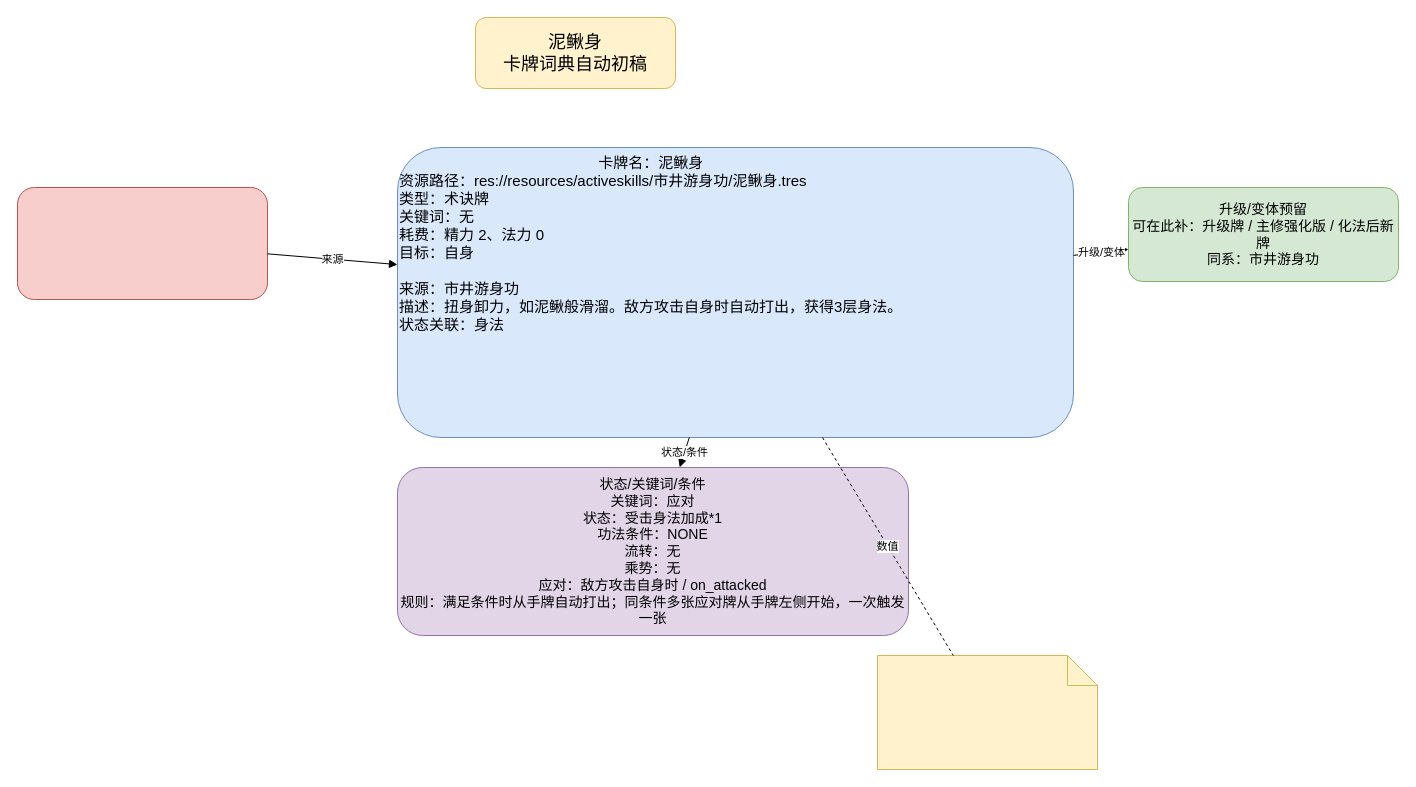
Some shapes in this 1416 by 787 pixel diagram are drawn without their labels. Each missing label, with the centre of its shape:
数值摘要 基础伤害：0 伤害类型：physical 倍率：无 范围：AOE 0: pixel 987 712
来源/前置 来源分类：市井游身功 来源秘籍：市井游身功 可在此补：前置牌 / 被替换牌 / 基础牌来源: pixel 142 243
